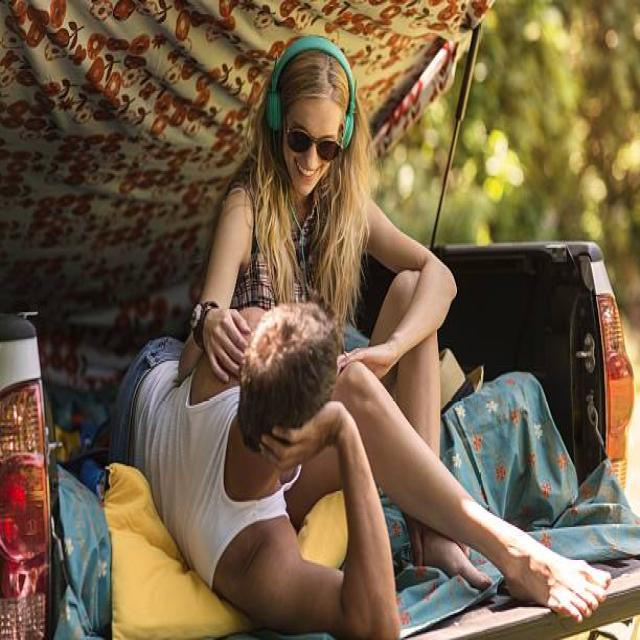Headphone: (266, 34, 356, 151)
